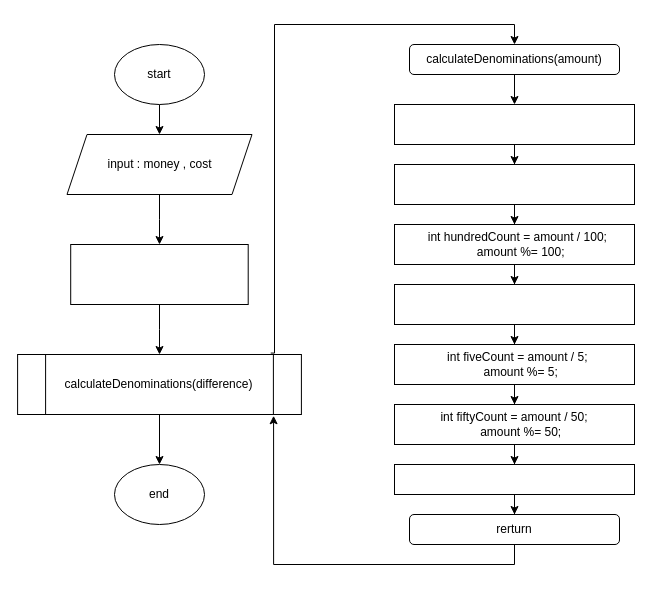
The diagram is 652 pixels wide and 590 high, and some of its shapes have lost their labels. The box of each missing label's shape, as (x1, y1, x2, y2) in pixels:
different = money-cost: (70, 244, 248, 304)
int fiveHundredCount = amount / 500; amount %= 500;: (394, 164, 634, 204)
int oneCount = amount / 1;: (394, 464, 634, 494)
int tenCount = amount / 10; amount %= 10;: (394, 284, 634, 324)
int thousandCount = amount / 1000; amount %= 1000;: (394, 104, 634, 144)
